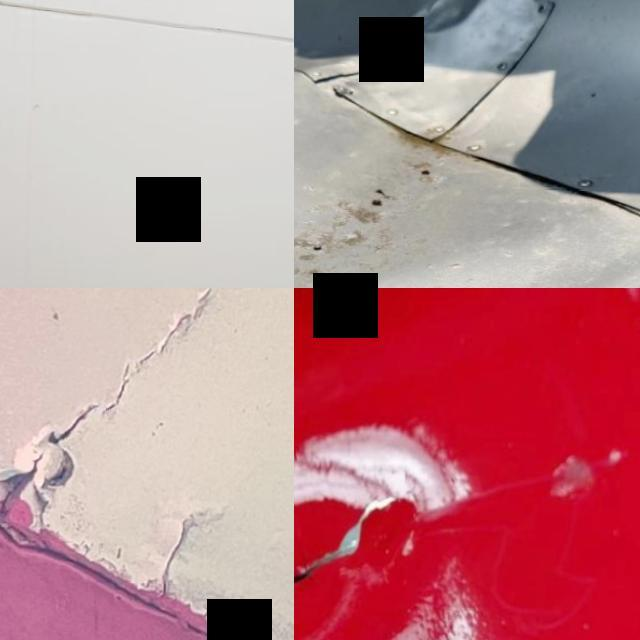Crack: (0, 288, 250, 563), (294, 412, 593, 640), (140, 492, 227, 616), (304, 36, 408, 103), (482, 0, 570, 14)
Dent: (345, 0, 515, 61)
